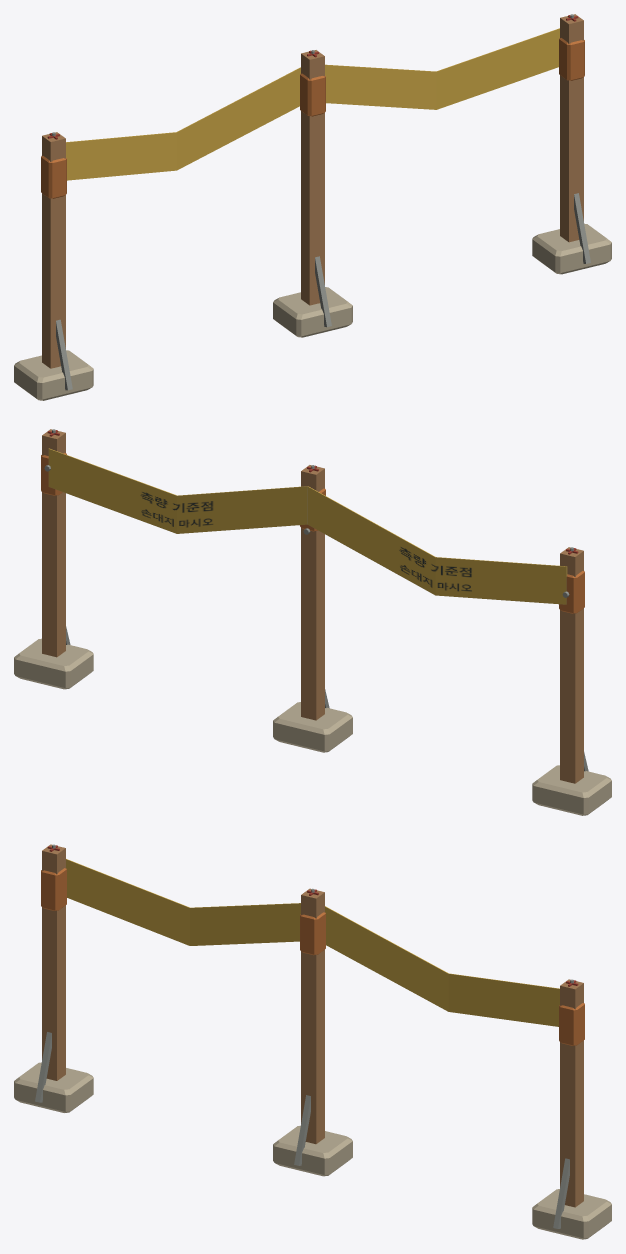
File: D02_Survey_Stakes_Tape.fbx
3 renders of one model, top to bottom at view 1: azimuth 30°, elevation 25°; view 2: azimuth 150°, elevation 25°; view 3: azimuth 330°, elevation 25°, orthographic.
Parts seen in each view (by area): view 1: Survey_Stakes, Tape_Back, Survey_Hardware; view 2: Survey_Stakes, Front_Survey_Tape, Tape_Back; view 3: Survey_Stakes, Tape_Back, Survey_Hardware.
Part boxes in pixels (bbox=[...]): Survey_Stakes: bbox=[14, 14, 611, 400]; Tape_Back: bbox=[66, 28, 559, 180]; Survey_Hardware: bbox=[56, 193, 590, 390]; Survey_Stakes: bbox=[14, 429, 611, 815]; Front_Survey_Tape: bbox=[48, 449, 566, 604]; Tape_Back: bbox=[49, 448, 567, 576]; Survey_Stakes: bbox=[14, 844, 611, 1239]; Tape_Back: bbox=[66, 859, 559, 1026]; Survey_Hardware: bbox=[35, 1032, 569, 1228].
Bounding box in the file's own units: 2.84 × 1.29 × 0.2563.
7 materials, 1 textured.
